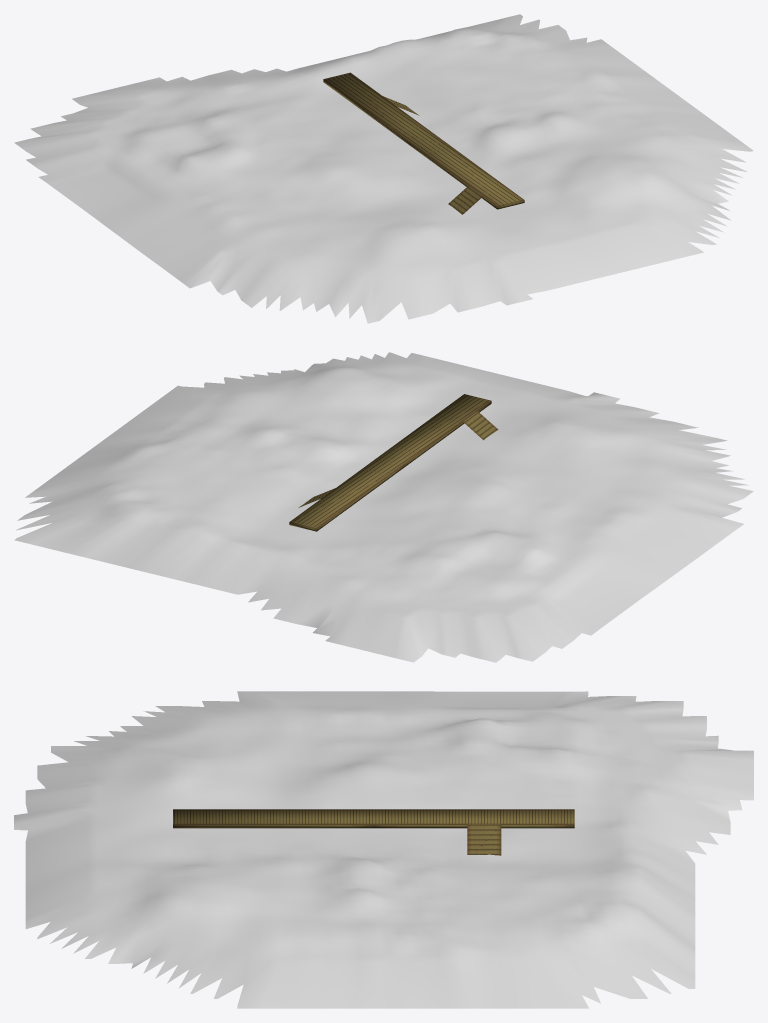
File: map_53.fbx
The picture shows the model from 3 angles, top to bottom: view 1: azimuth 30°, elevation 25°; view 2: azimuth 150°, elevation 25°; view 3: azimuth 270°, elevation 25°; orthographic projection. The views are drawn at different scales.
Parts seen in each view (by area): view 1: Plane.001; view 2: Plane.001; view 3: Plane.001.
Boxes of the visible parts, x1,y1,x2,y2 form: Plane.001: [14, 14, 753, 323]; Plane.001: [14, 352, 753, 662]; Plane.001: [14, 691, 753, 1008].
Size of the model in its own units: 150 by 8.62 by 147.
